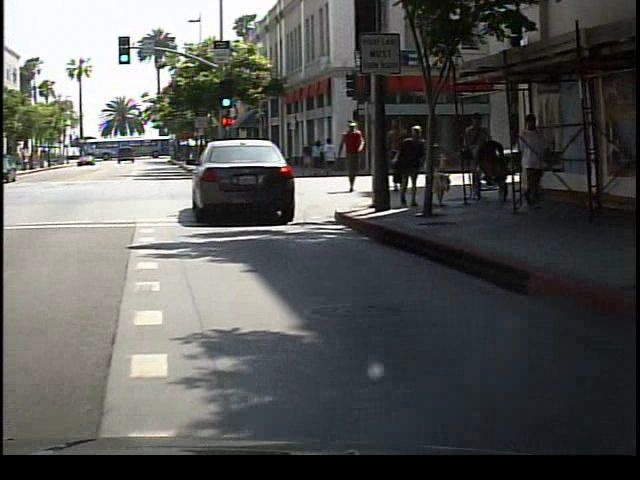person: (339, 115, 374, 198), (380, 111, 412, 196)
